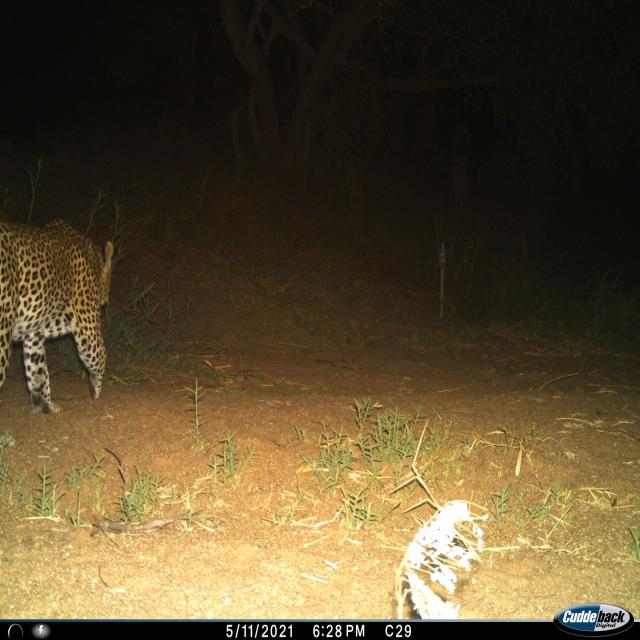Leopard: (0, 196, 113, 439)
